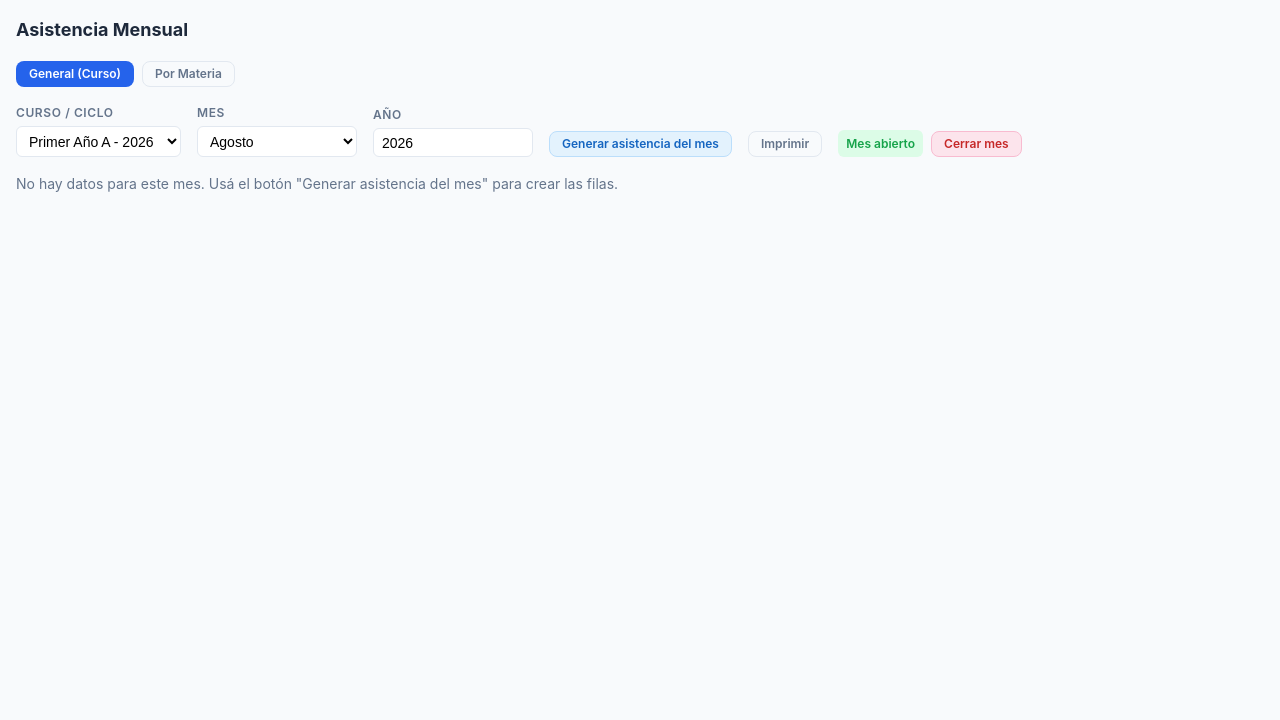
Test: AsistenciaMensualPage › WM-14: shows "sin curso asignado" popup when materias GET returns 403
Click the button with test id "tab-materia" at point(188, 74), box [142,61,235,87]
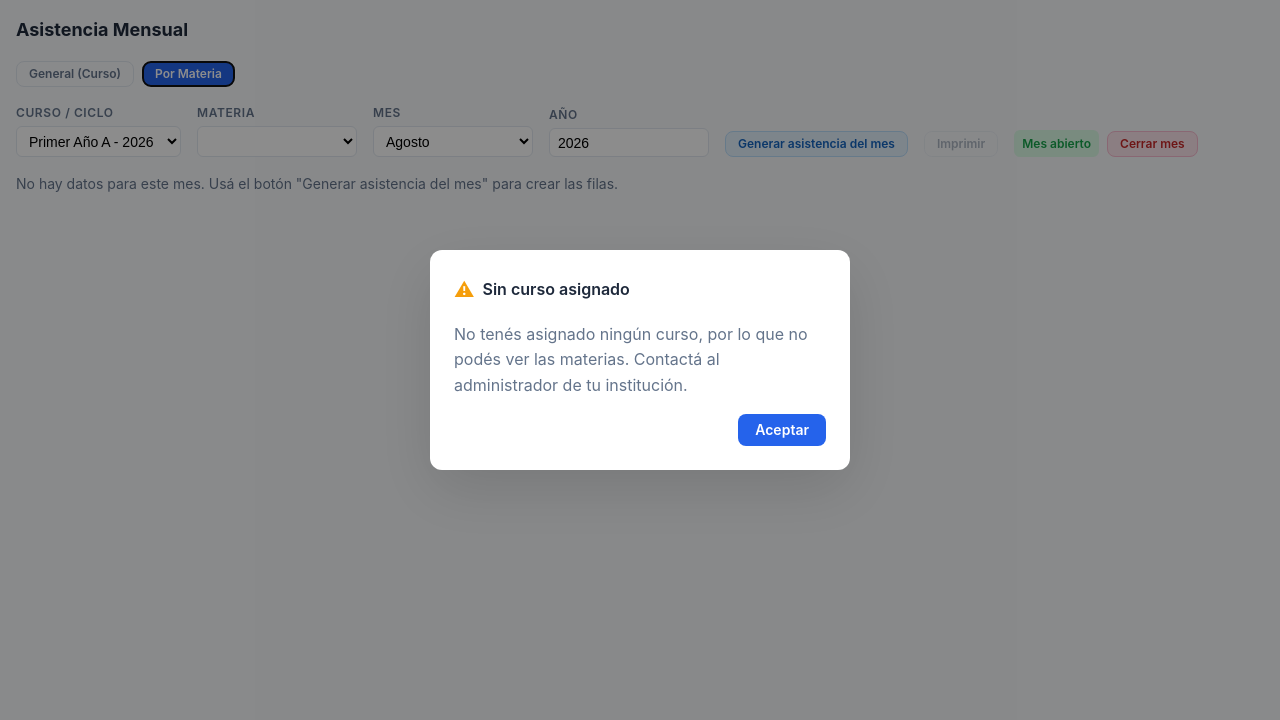
Now the element with test id "alert-modal-overlay" is shown
